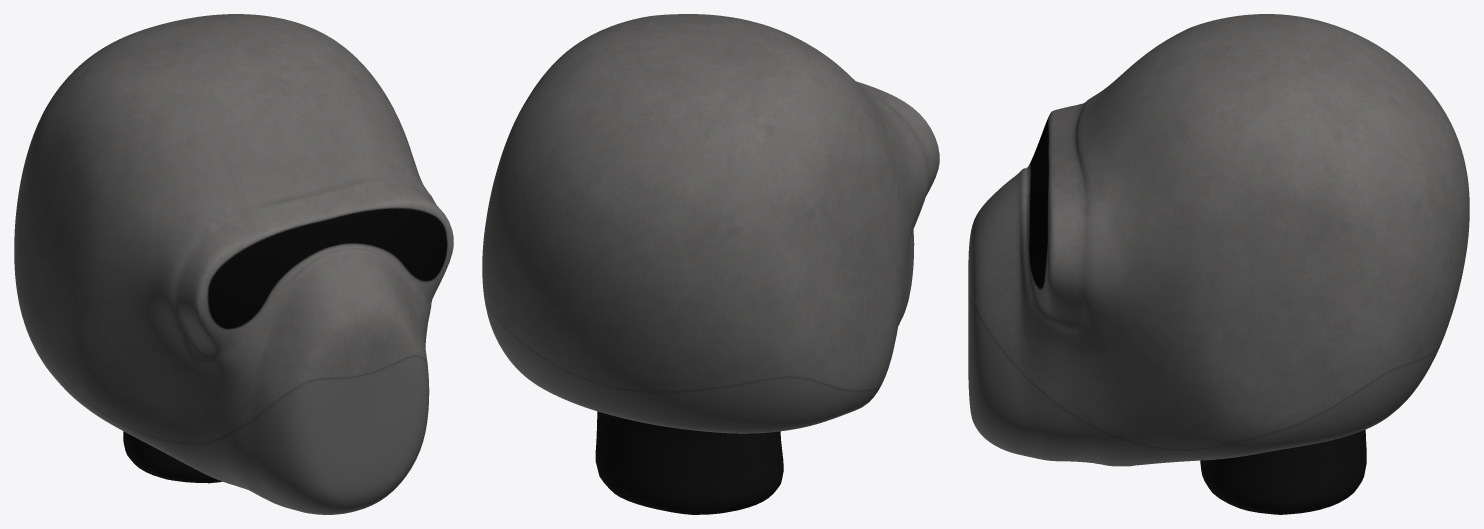
The model's file is enemy_soldier_helmet_sketch.glb.
The picture shows the model from 3 angles, left to right: view 1: azimuth 30°, elevation 25°; view 2: azimuth 150°, elevation 25°; view 3: azimuth 270°, elevation 25°; orthographic projection. The views are drawn at different scales.
Parts seen in each view (by area): view 1: deforV2, head; view 2: deforV2, head; view 3: deforV2, head.
Part boxes in pixels (x1,y1,x2,y2): deforV2: (14, 14, 453, 514); head: (123, 431, 222, 483); deforV2: (482, 14, 939, 433); head: (595, 411, 783, 514); deforV2: (968, 14, 1469, 466); head: (1200, 429, 1366, 514).
Size of the model in its own units: 3.22 by 3.86 by 4.
2 materials, 1 textured.
